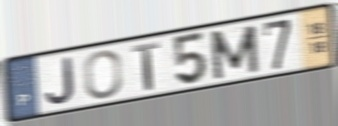5: (170, 29, 210, 87)
7: (261, 17, 293, 72)
J: (44, 55, 77, 106)
M: (207, 23, 262, 82)
O: (82, 48, 124, 101)
T: (130, 40, 162, 93)
